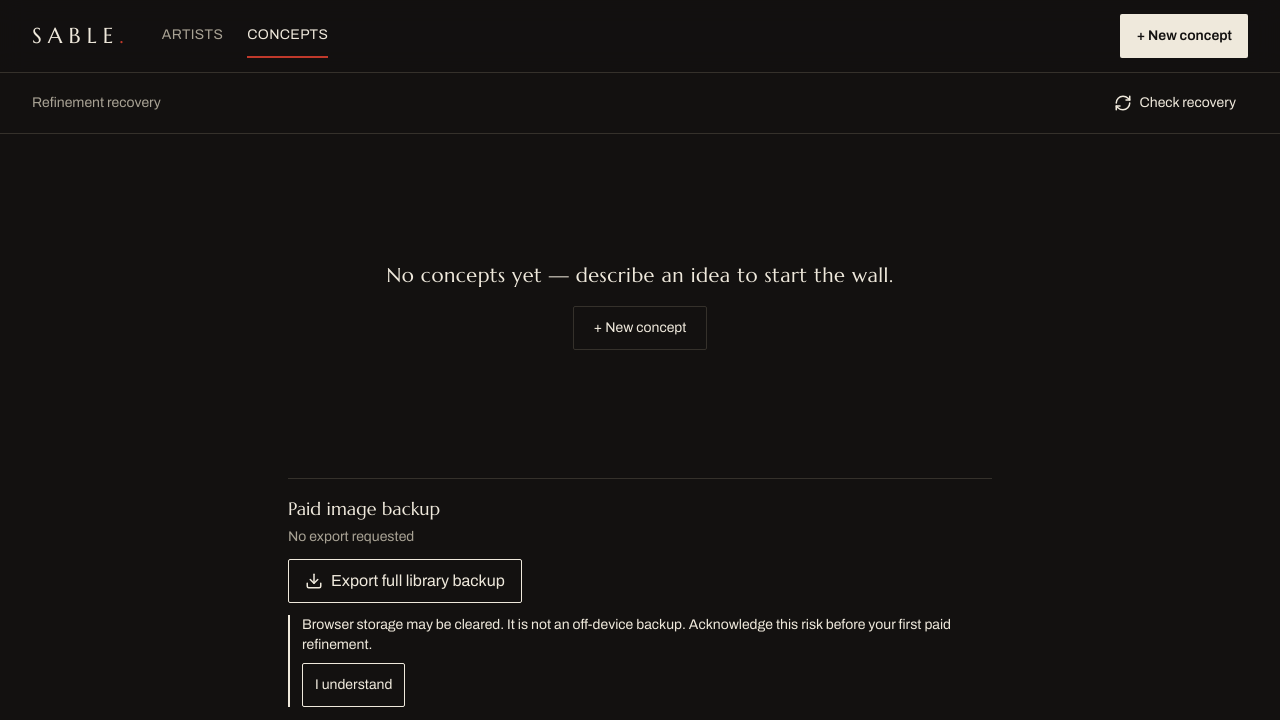
Test: Concepts page › paid-refinement panels › keeps recovery reachable while a configured relay is unreachable, and retries without sending
What coordinates should you click on to do the following:
click the button "Check recovery"
I would click on:
 (1175, 103)
Its box is [1102,81,1248,125].
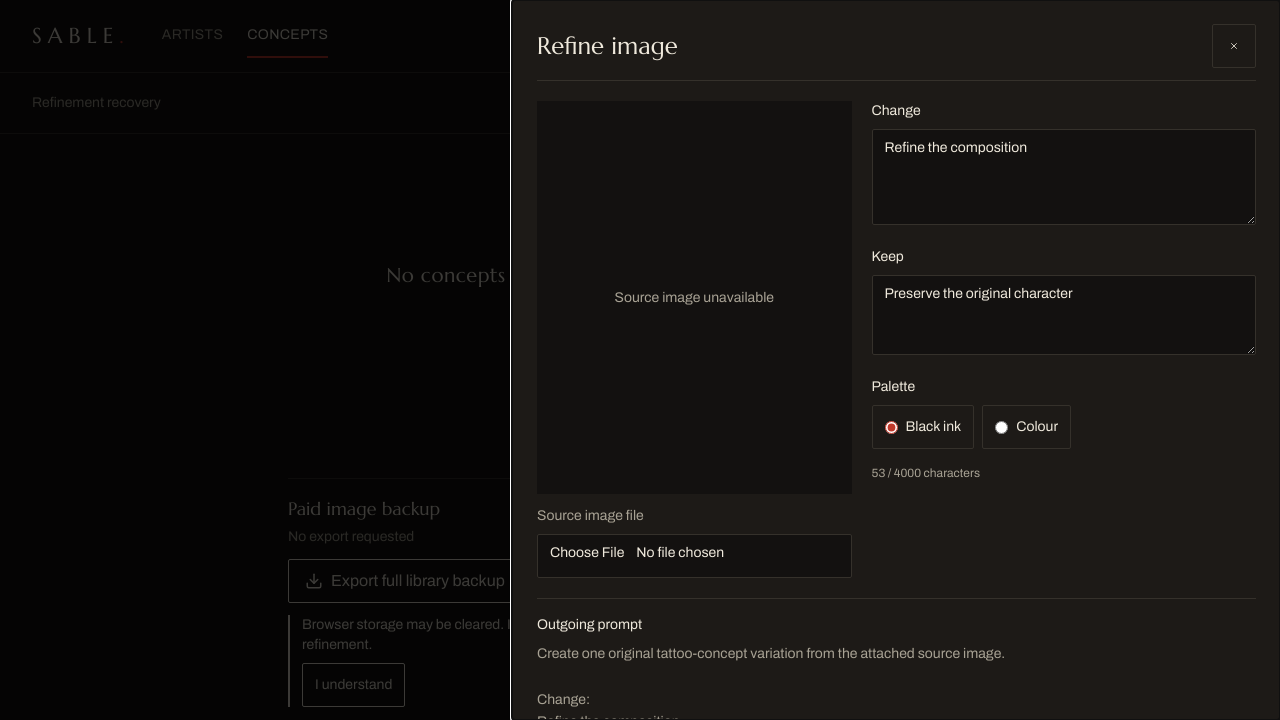
Expected: the dialog "Refine image" is shown, [512,0,1279,719]
